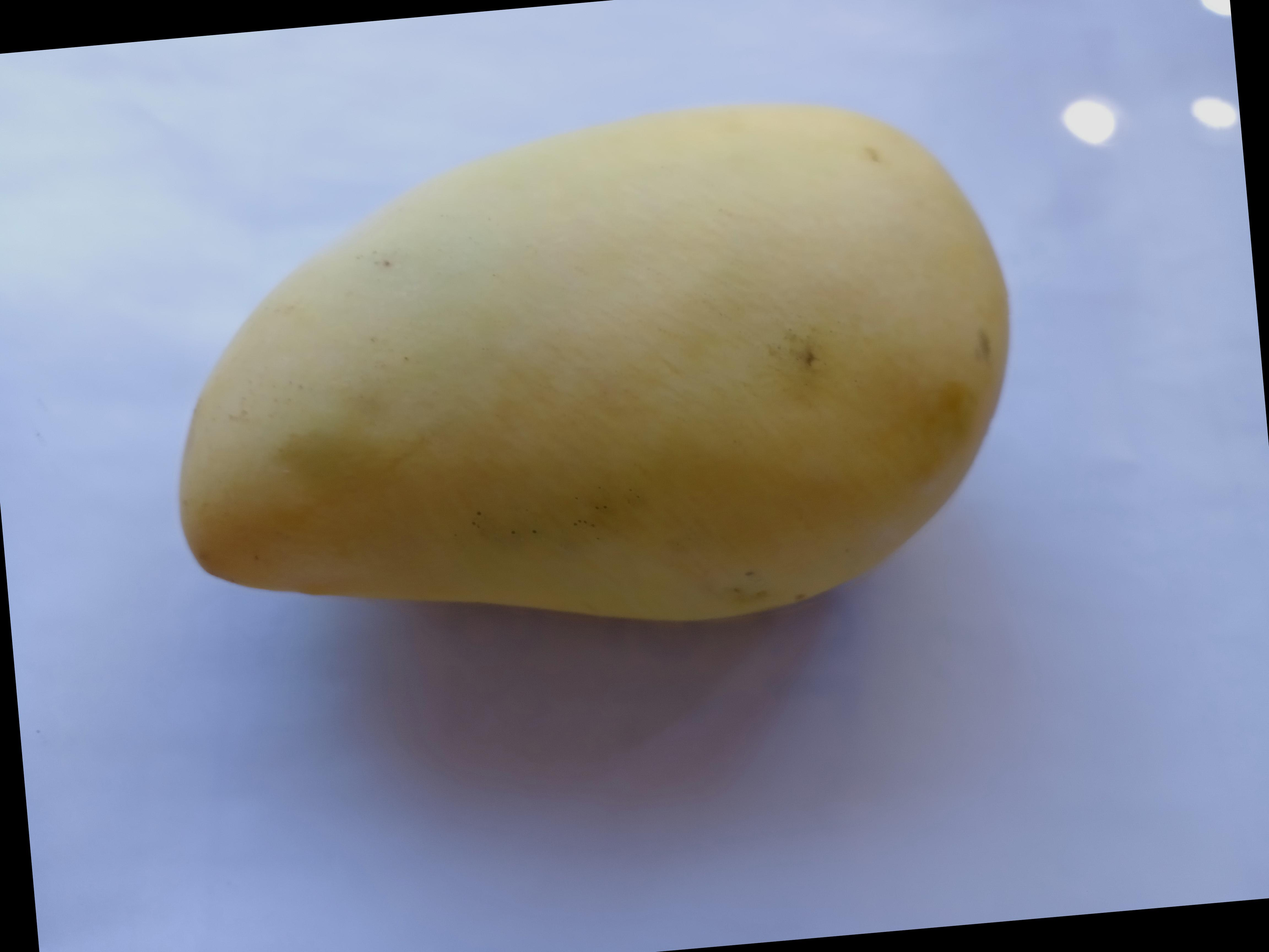Mango Ripe: (54, 89, 1017, 796)
